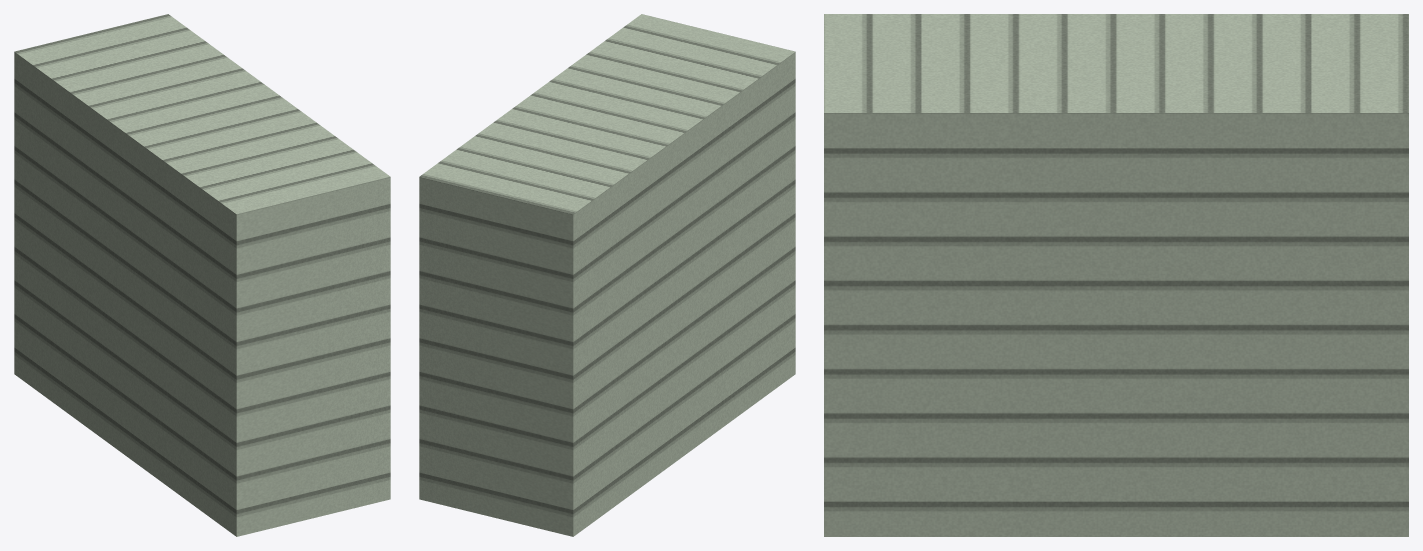
Rendered from home_gym_equipment.glb.
The picture shows the model from 3 angles, left to right: view 1: azimuth 30°, elevation 25°; view 2: azimuth 150°, elevation 25°; view 3: azimuth 270°, elevation 25°; orthographic projection. The views are drawn at different scales.
Visible parts, largest first — view 1: home_gym_equipment-col; view 2: home_gym_equipment-col; view 3: home_gym_equipment-col.
Boxes of the visible parts, x1,y1,x2,y2 form: home_gym_equipment-col: (14, 14, 390, 536); home_gym_equipment-col: (419, 14, 795, 536); home_gym_equipment-col: (824, 14, 1408, 536).
Size of the model in its own units: 0.6 by 1.2 by 1.5.
Materials: 1 (1 with a texture image).
